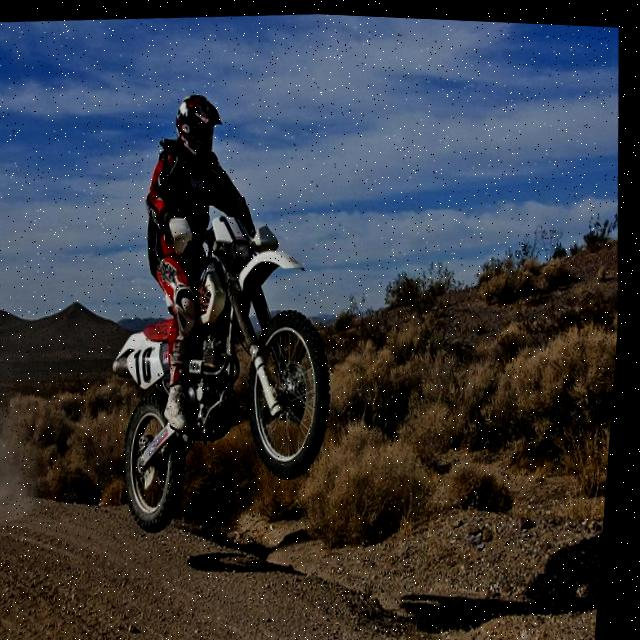motorcycle: (88, 197, 356, 545)
